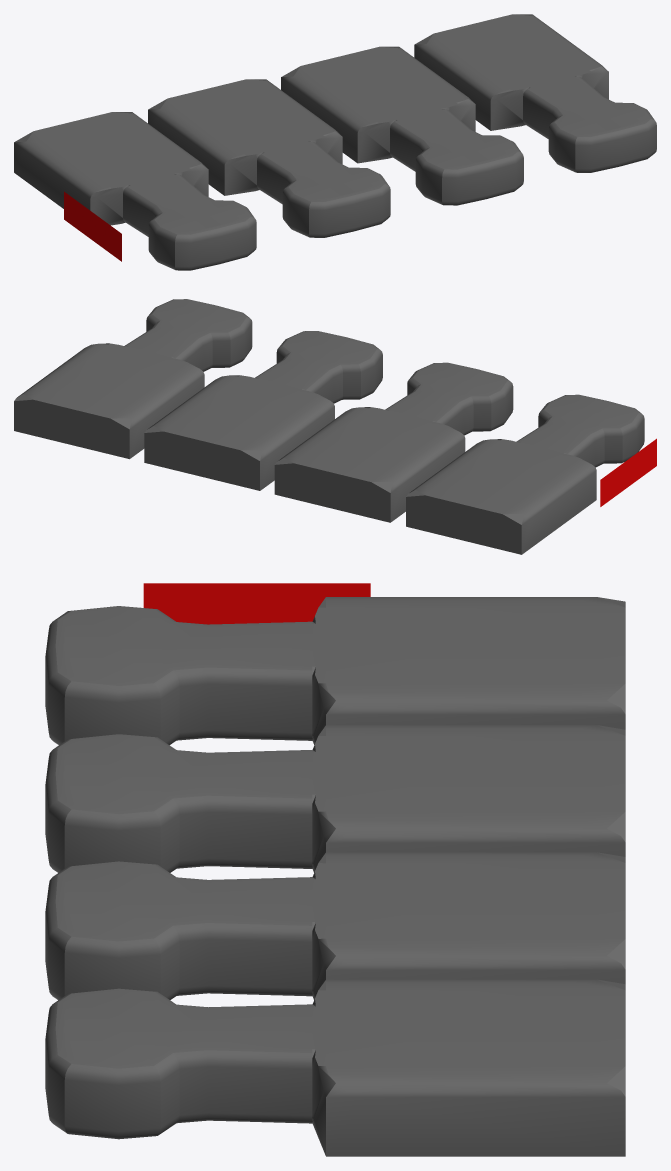
Rendered from 拉链左2.fbx.
3 views of the same model, one above another, from view 1: azimuth 30°, elevation 25°; view 2: azimuth 150°, elevation 25°; view 3: azimuth 270°, elevation 25° (orthographic). The views are drawn at different scales.
Visible parts, largest first — view 1: 拉链_锯齿003; view 2: 拉链_锯齿003; view 3: 拉链_锯齿003.
Boxes of the visible parts, x1,y1,x2,y2 form: 拉链_锯齿003: (14, 14, 656, 270); 拉链_锯齿003: (14, 299, 656, 554); 拉链_锯齿003: (45, 583, 625, 1156).
Bounding box in the file's own units: 2953 × 194 × 1421.
